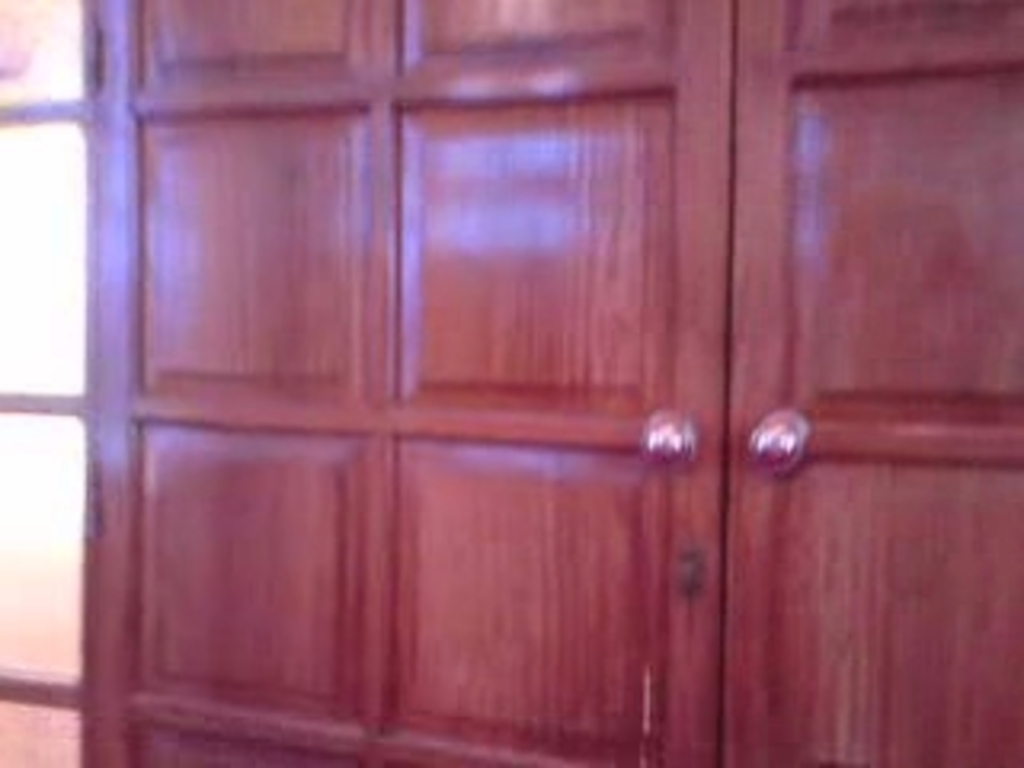door: (120, 12, 703, 749), (734, 30, 1015, 768)
handle: (750, 410, 801, 479), (646, 407, 697, 474)
